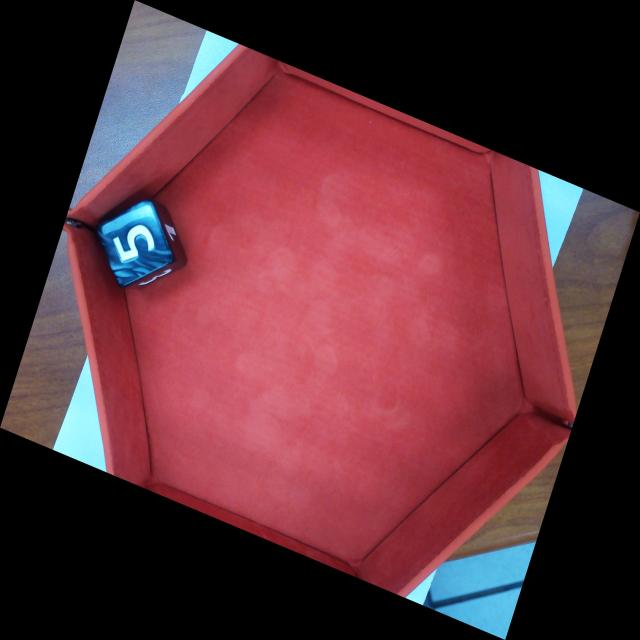dice: (94, 195, 178, 292)
